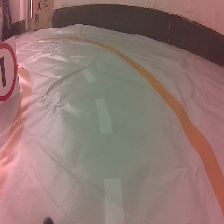limit: (1, 33, 22, 106)
